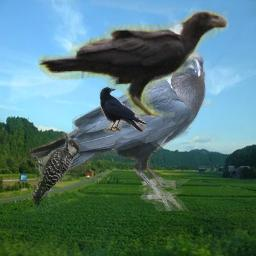Crow: (28, 52, 206, 211), (38, 10, 229, 117), (99, 85, 146, 133)
Woodpecker: (31, 130, 80, 208)
